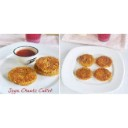cutlet: (7, 66, 36, 84), (36, 57, 60, 75), (75, 67, 93, 79), (77, 54, 94, 66), (95, 68, 112, 79), (98, 56, 112, 67)
